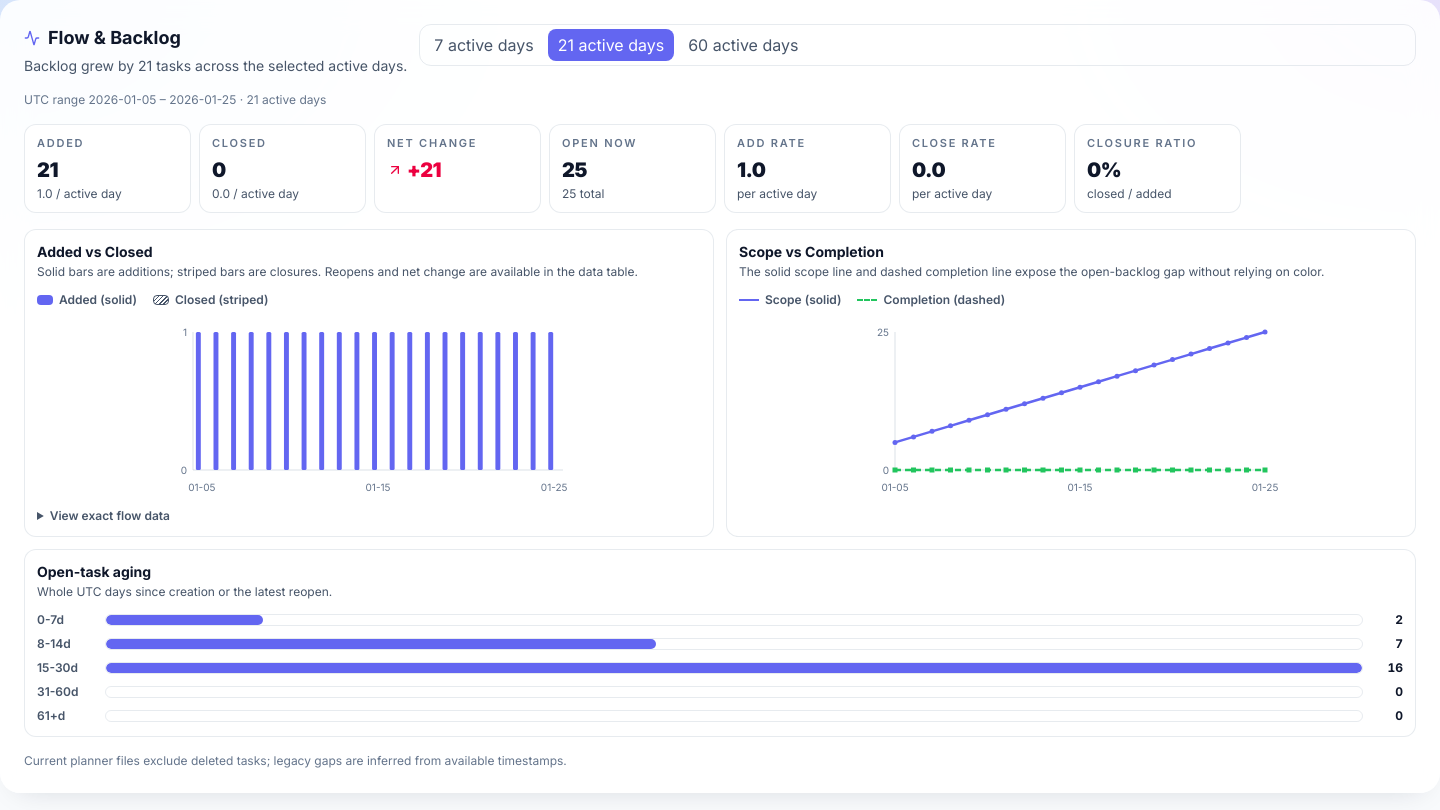
Test: FlowBacklogAnalytics › defaults to 21 active days and updates the exact window without navigation
Expected: the text "21" in the row of "+21" is shown, [37,158,58,182]
Click the button "7 active days" at (484, 45), box [424,29,544,61]
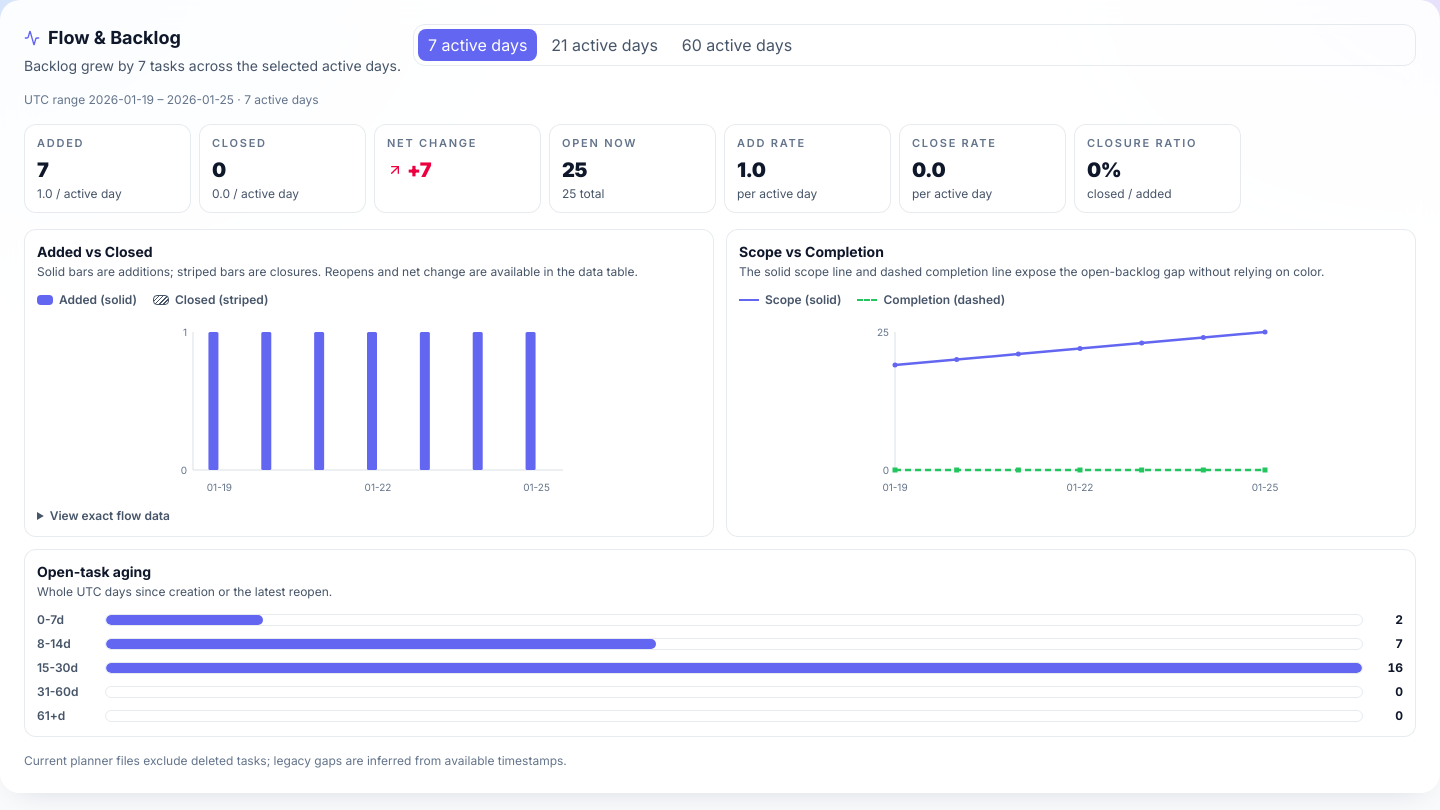
Expected: the text "7" in the row of "+7" is shown, [37,158,48,182]
